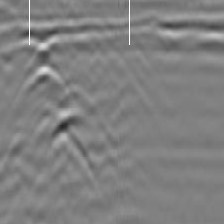Utility: (22, 62, 98, 182)
